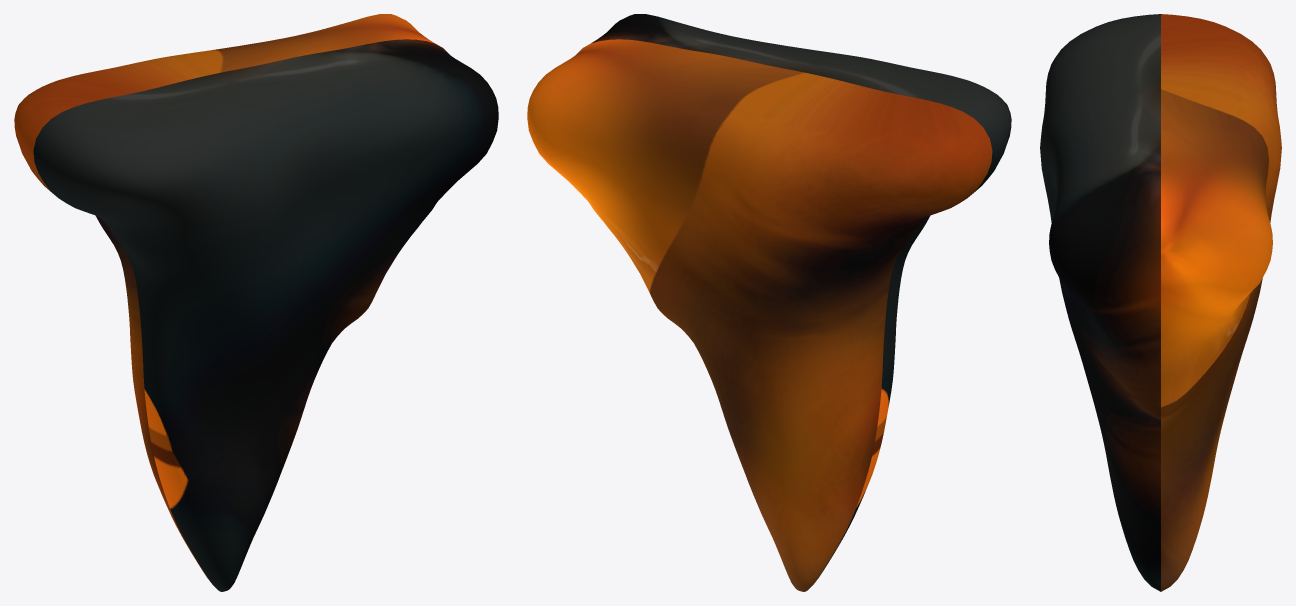
The model's file is Platform_S2.fbx.
3 renders of one model, left to right at view 1: azimuth 30°, elevation 25°; view 2: azimuth 150°, elevation 25°; view 3: azimuth 270°, elevation 25°, orthographic. The views are drawn at different scales.
Visible parts, largest first — view 1: Platform_S; view 2: Platform_S; view 3: Platform_S.
Boxes of the visible parts, x1,y1,x2,y2 form: Platform_S: (14,14,498,591); Platform_S: (527,14,1011,591); Platform_S: (1040,14,1281,591).
Size of the model in its own units: 2.66 by 3.15 by 1.37.
